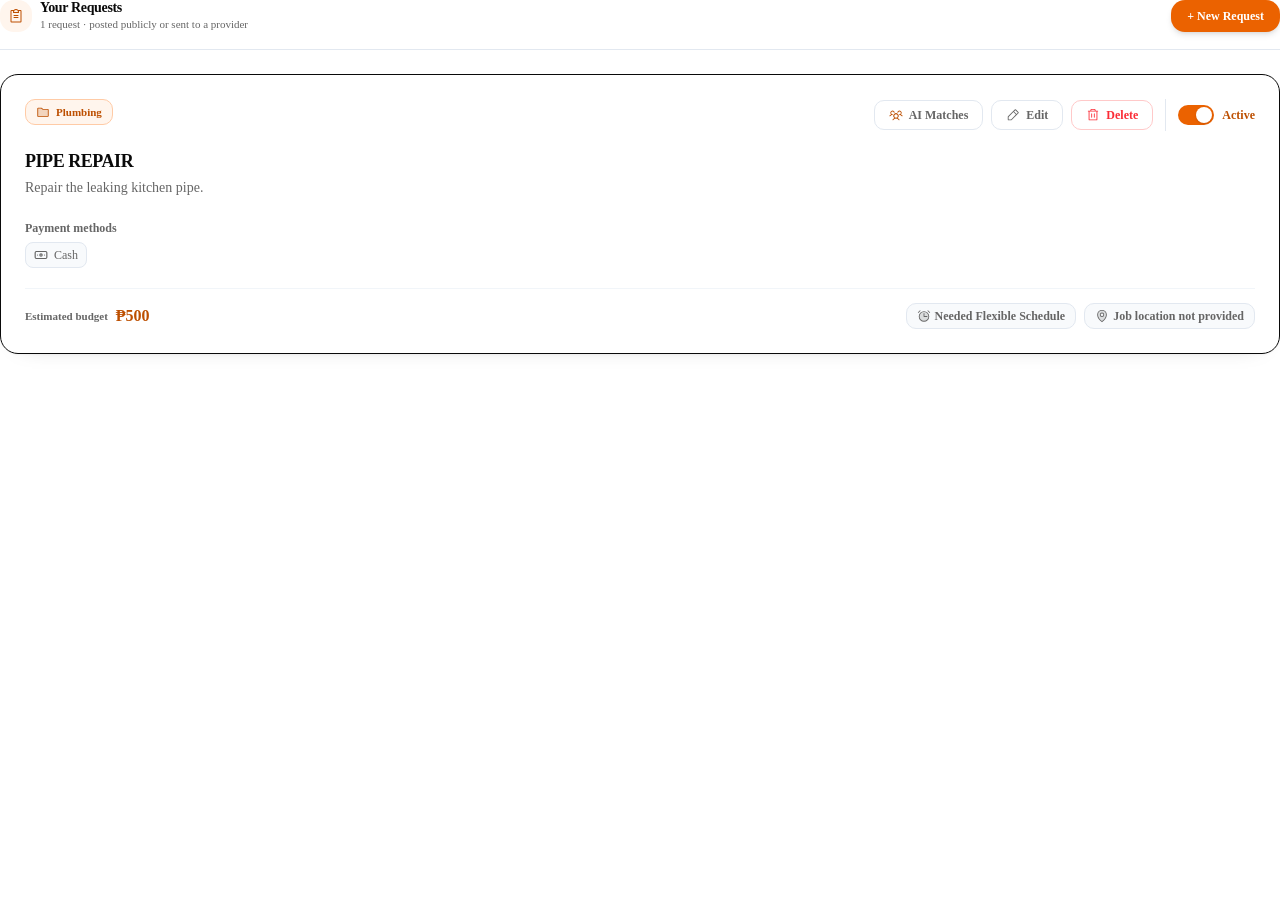
Test: My Requests deletion › removes an open request only on success and never brings it back from a late stale read
The width and height of the screenshot is (1280, 900).
Click the button with aria-label "Delete PIPE REPAIR": (1112, 115) [1071,100,1153,130]
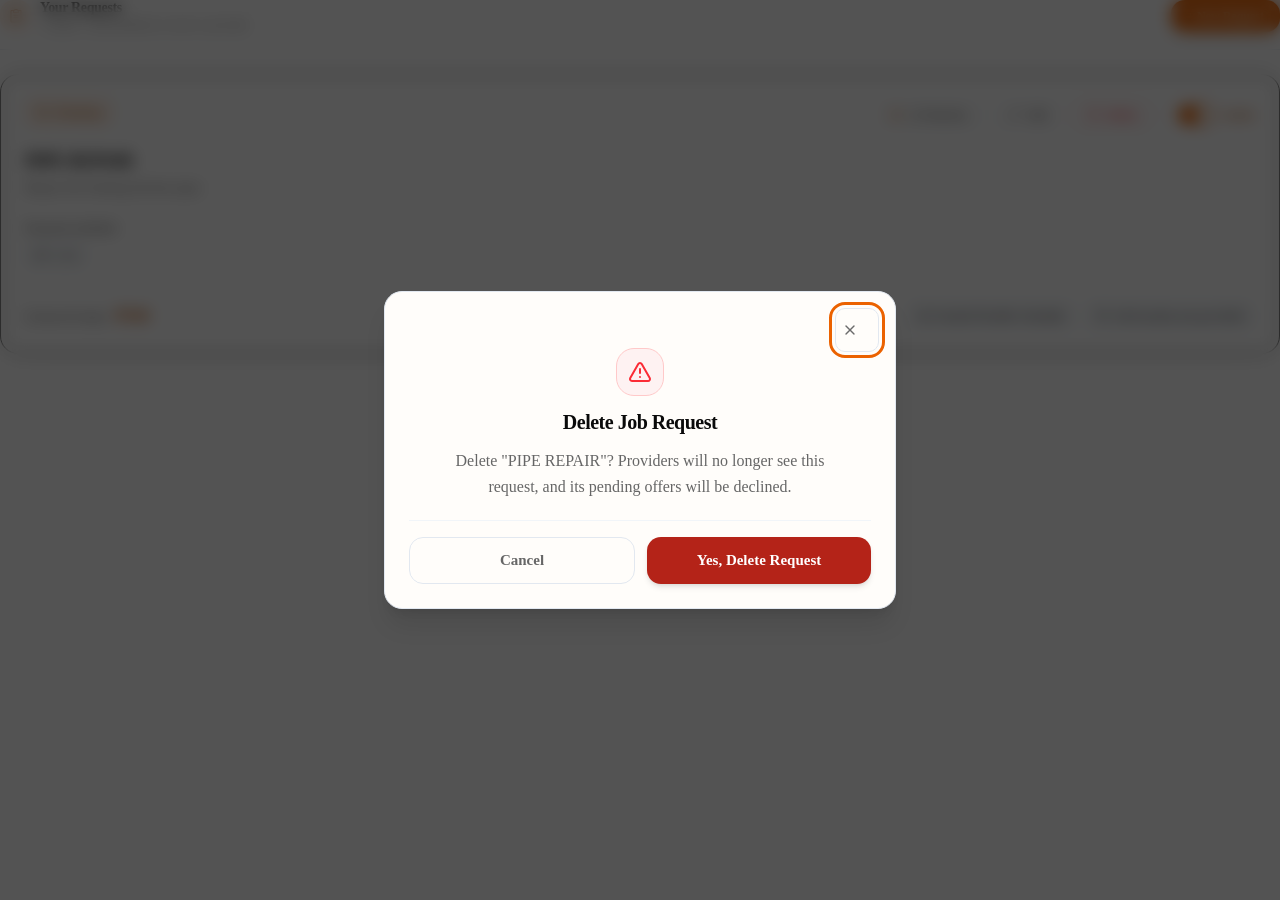
Click the button "Yes, Delete Request": (759, 560) [647,537,871,584]
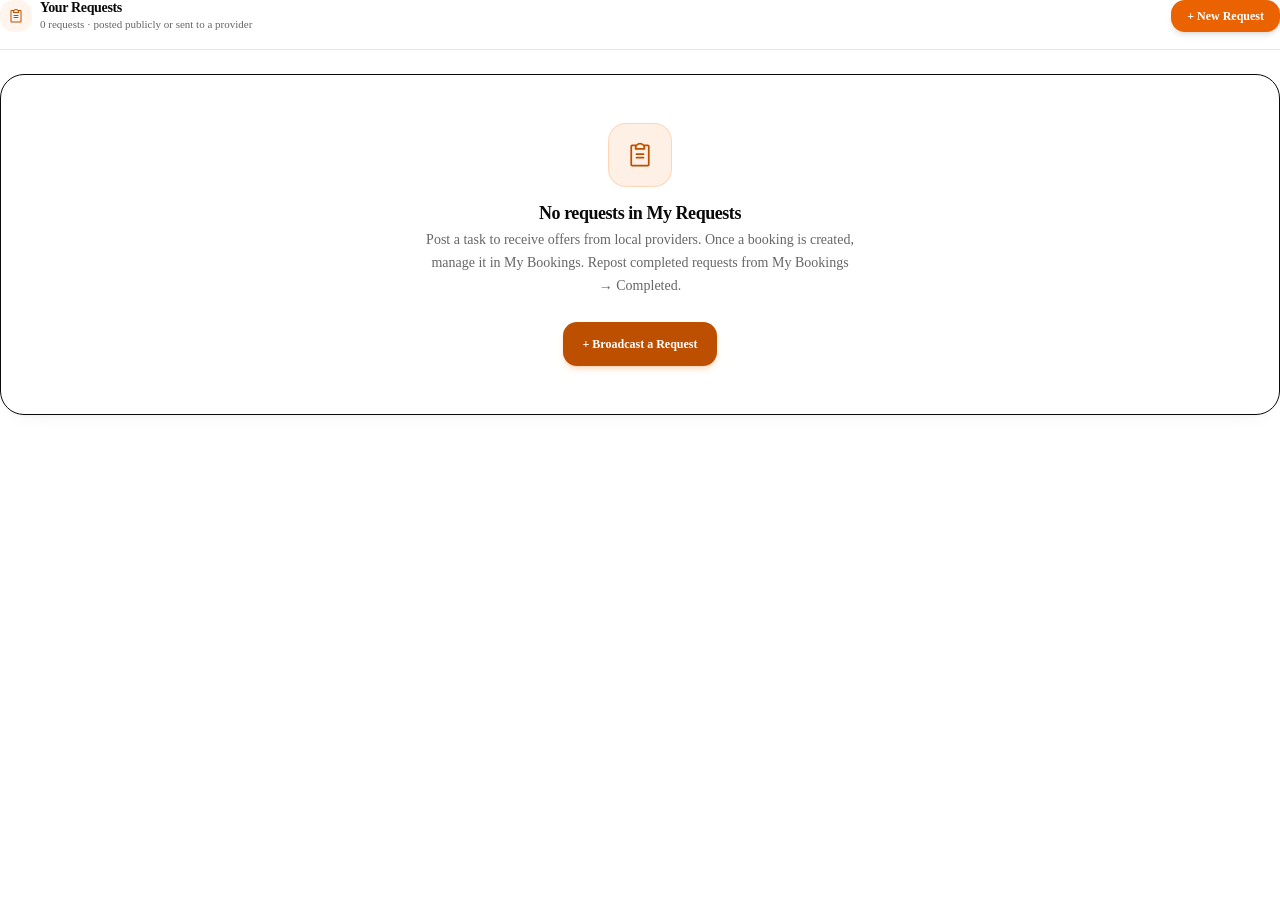
Expected: the heading "PIPE REPAIR" is gone
